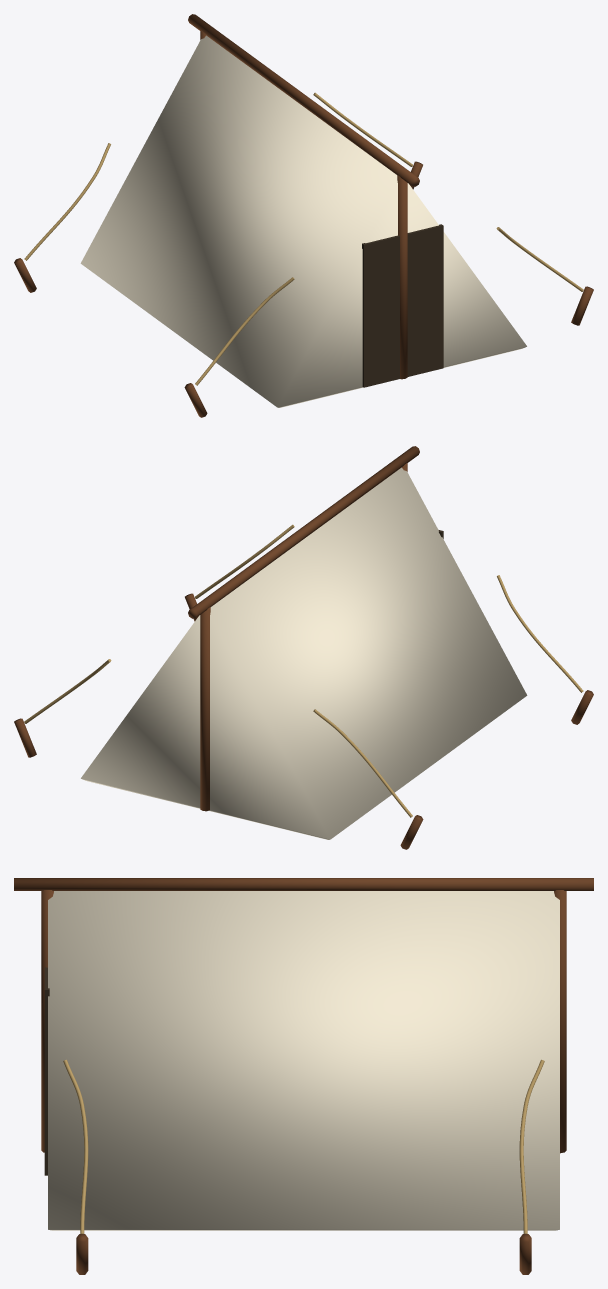
Rendered from tent.glb.
3 renders of one model, top to bottom at view 1: azimuth 30°, elevation 25°; view 2: azimuth 150°, elevation 25°; view 3: azimuth 270°, elevation 25°, orthographic. The views are drawn at different scales.
Parts seen in each view (by area): view 1: tent, rope.002, rope; view 2: tent, rope, rope.002; view 3: tent, rope.001, rope.003.
Boxes of the visible parts, x1,y1,x2,y2 form: tent: (14,14,593,417); rope.002: (24,143,110,260); rope: (195,277,294,385); tent: (14,446,593,849); rope: (497,575,583,692); rope.002: (313,709,412,817); tent: (14,878,593,1274); rope.001: (63,1059,88,1233); rope.003: (519,1059,544,1233).
Bounding box in the file's own units: 3.58 × 1.79 × 3.4.
